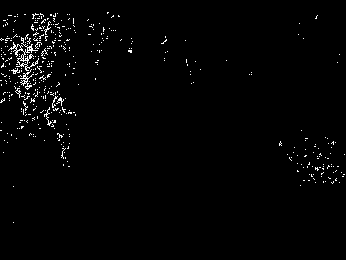person: (48, 96, 81, 169)
